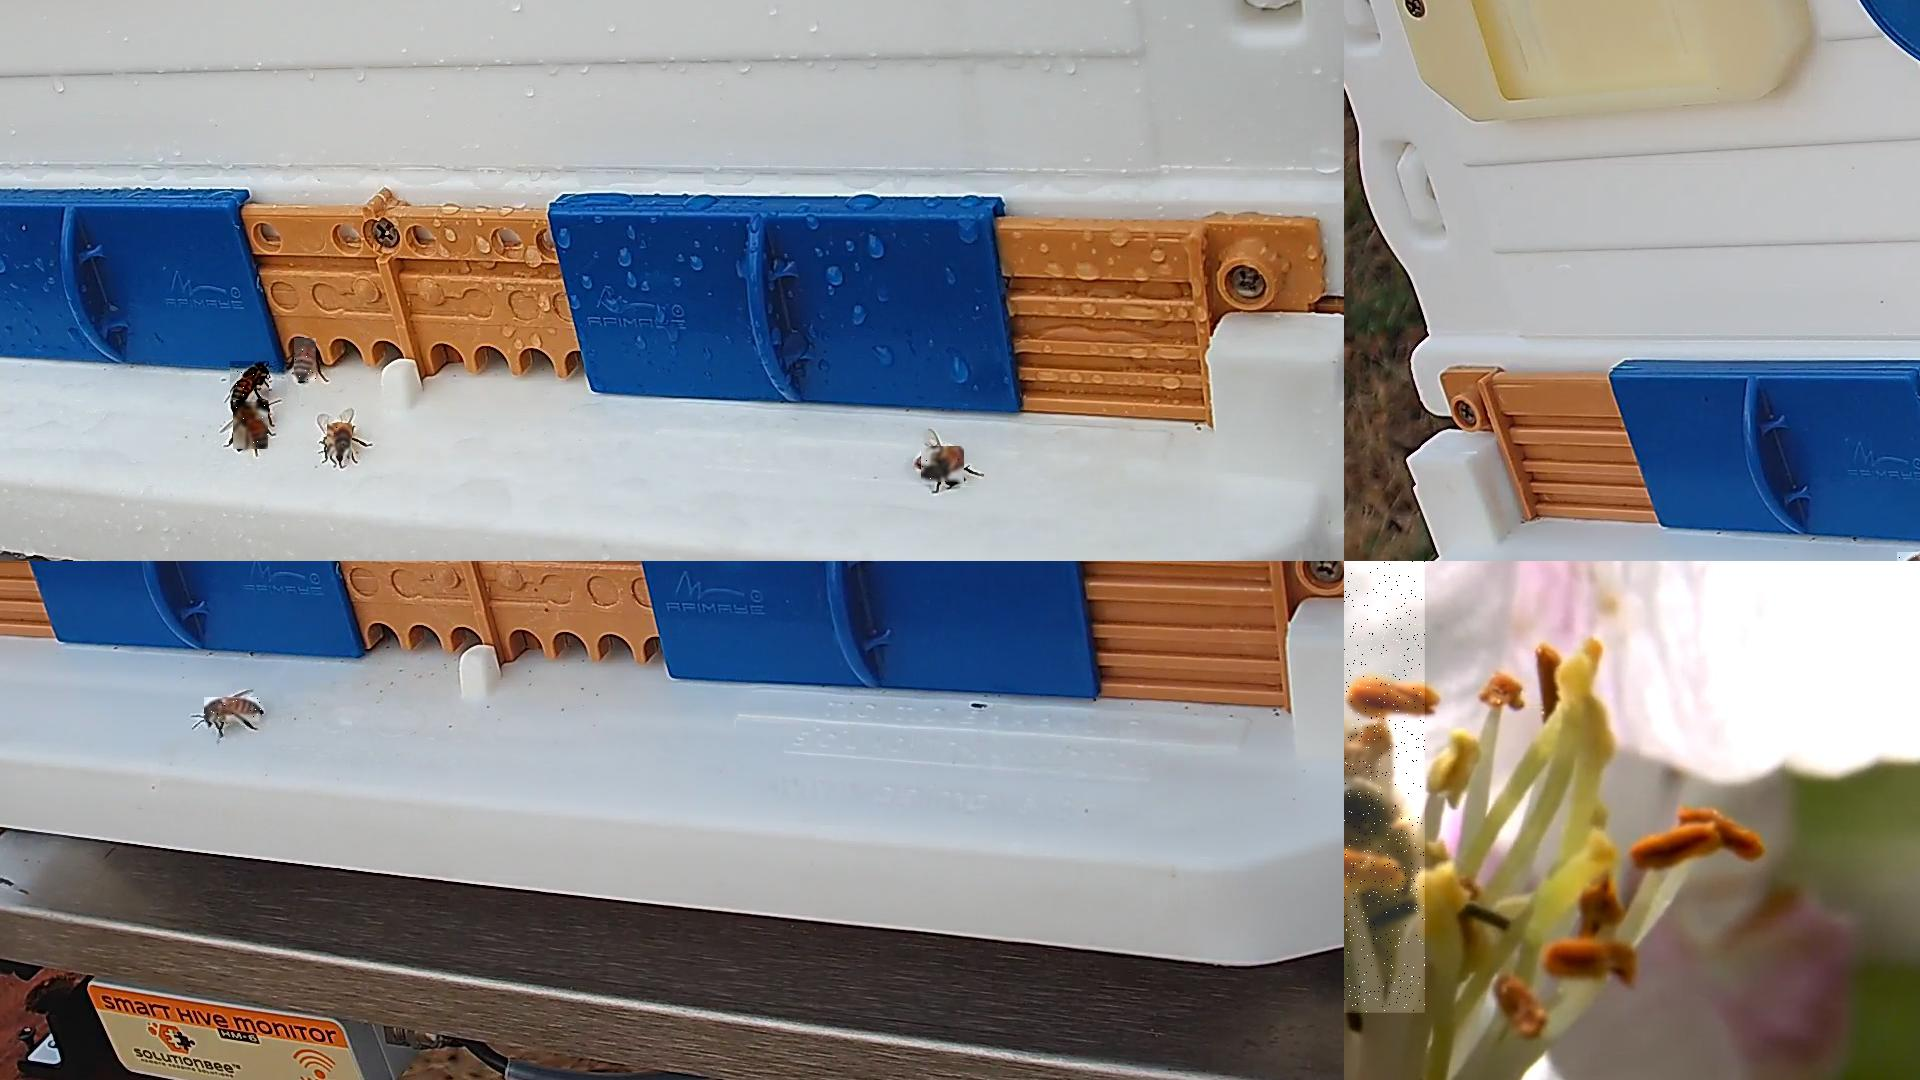bee: (231, 361, 270, 409), (922, 447, 965, 485), (233, 404, 269, 450), (204, 698, 262, 725), (294, 339, 316, 384), (327, 423, 353, 459)
